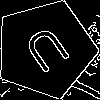U: (20, 24, 79, 83)
